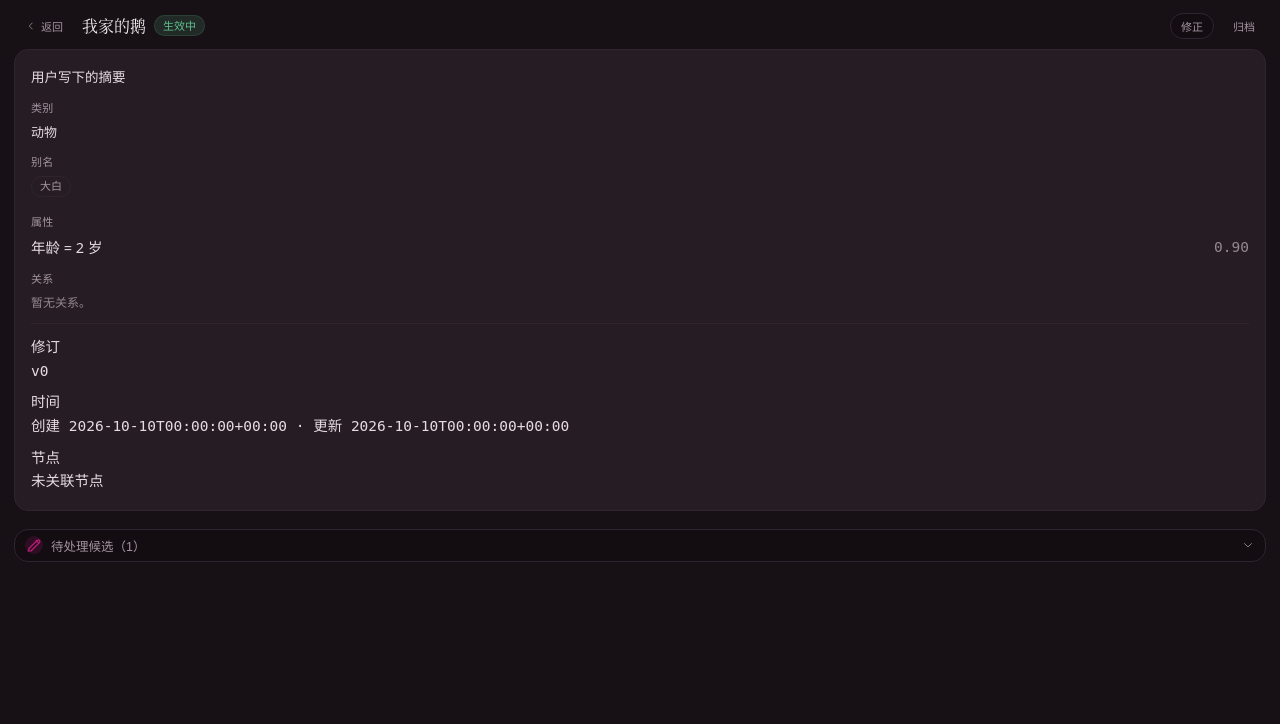
Test: A04 前端：实体候选的用户管理入口 › 展开后能看到当前值 / 候选值 / 一句话原因，并有「采纳」「丢弃」按钮
Click the button "待处理候选（1）". click: (98, 547)
box: [14,529,1266,562]
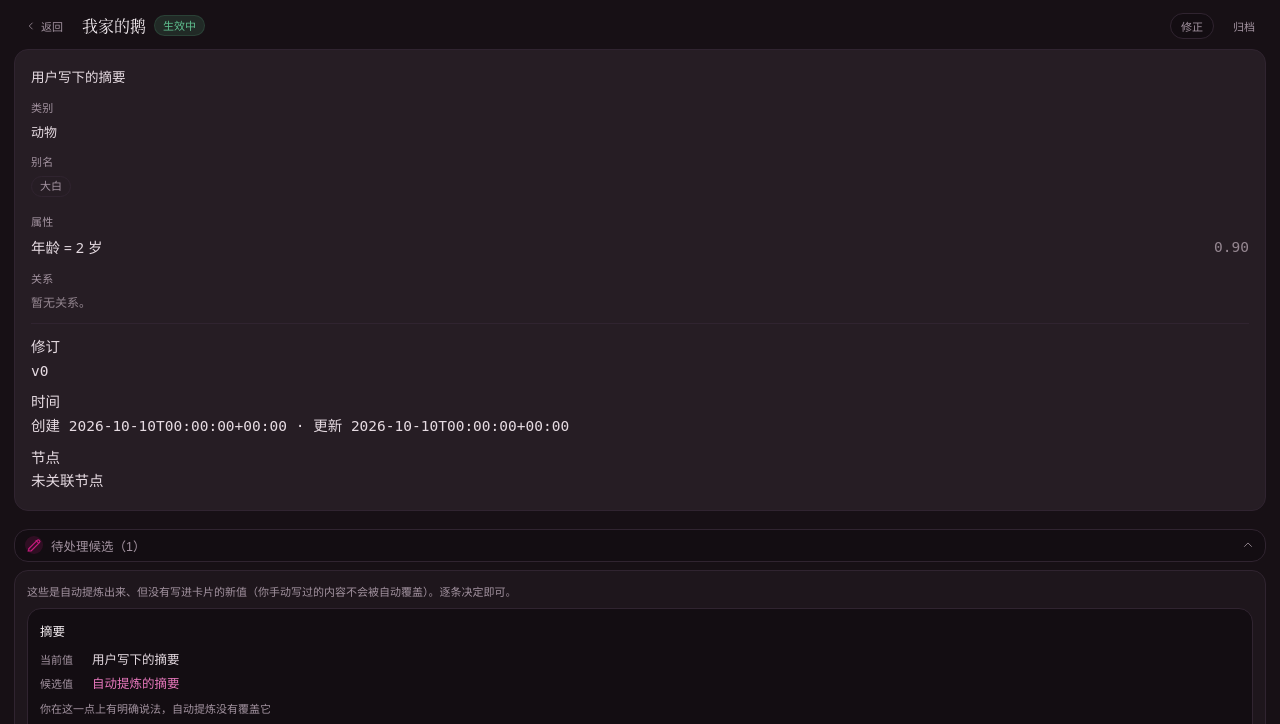
Expected: the text "用户写下的摘要" is shown, [31,68,126,86]
Expected: the text "自动提炼的摘要" is shown, [92,675,180,692]
